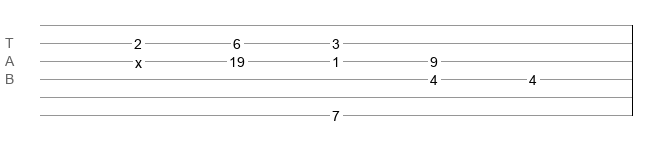1: (332, 54, 340, 64)
19: (229, 54, 245, 64)
2: (134, 36, 142, 46)
3: (332, 36, 340, 46)
4: (430, 72, 438, 82), (529, 72, 537, 82)
6: (233, 36, 241, 46)
7: (332, 108, 340, 118)
9: (430, 54, 438, 64)
x: (135, 55, 142, 63)
